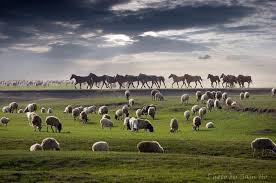sheep: (137, 140, 165, 156), (45, 115, 64, 134), (41, 135, 61, 153), (137, 116, 154, 133), (91, 140, 109, 153), (30, 114, 42, 131), (191, 116, 203, 133), (168, 118, 179, 133), (99, 118, 113, 128), (205, 98, 214, 113), (29, 141, 41, 152), (97, 105, 108, 116), (121, 104, 130, 117), (80, 110, 88, 124), (122, 89, 132, 100), (113, 108, 123, 119), (1, 116, 11, 126), (205, 121, 215, 131), (2, 104, 11, 115), (24, 103, 33, 114), (154, 93, 165, 102), (225, 96, 234, 107), (214, 89, 223, 100), (72, 107, 79, 121), (181, 93, 189, 104), (183, 109, 190, 121), (197, 107, 205, 117), (10, 101, 17, 112), (135, 108, 142, 119), (213, 99, 220, 110), (238, 91, 245, 101), (127, 98, 135, 106), (47, 107, 53, 115), (244, 91, 250, 98)
